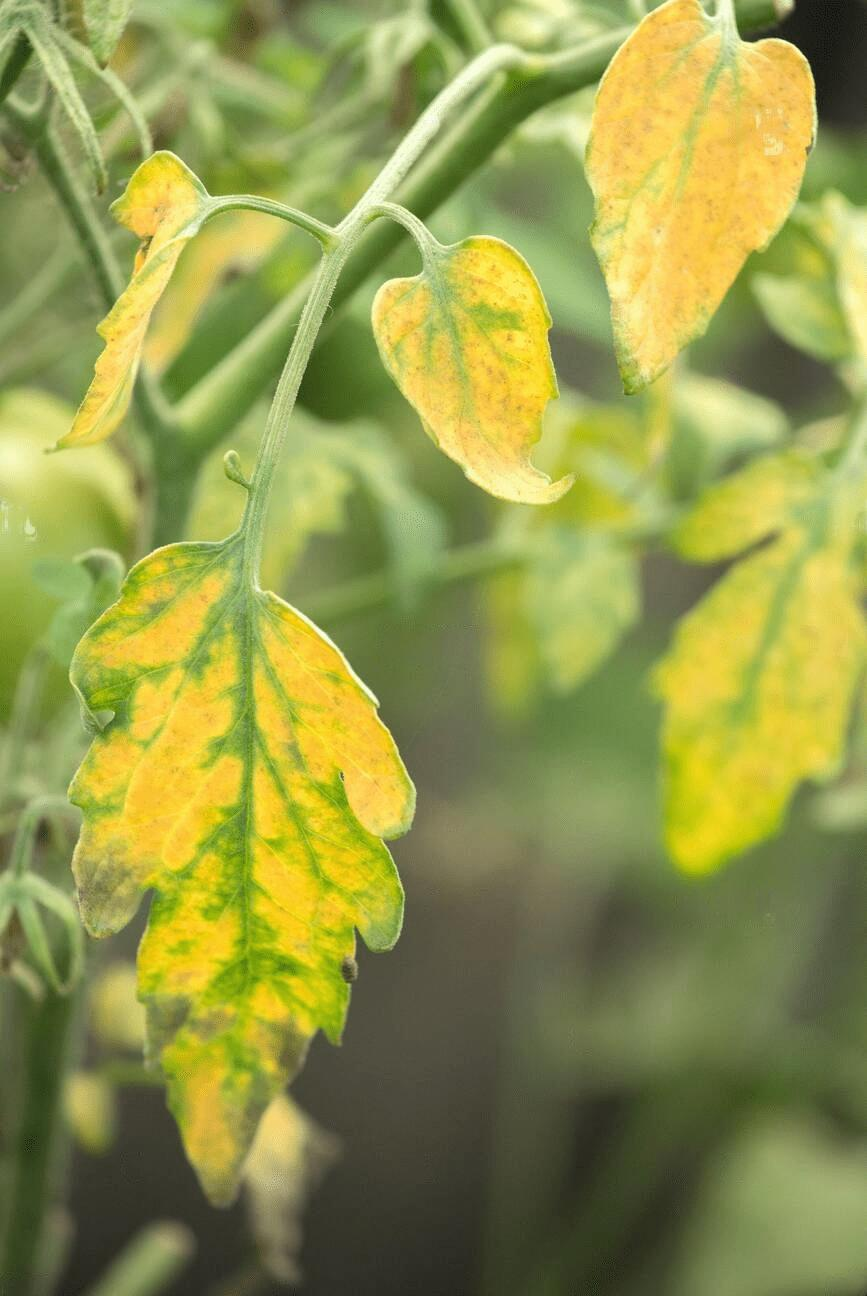Yellow Leaf Curl Virus: (57, 517, 423, 1233), (637, 417, 867, 887), (580, 0, 830, 400), (363, 220, 580, 523), (27, 123, 203, 463)
